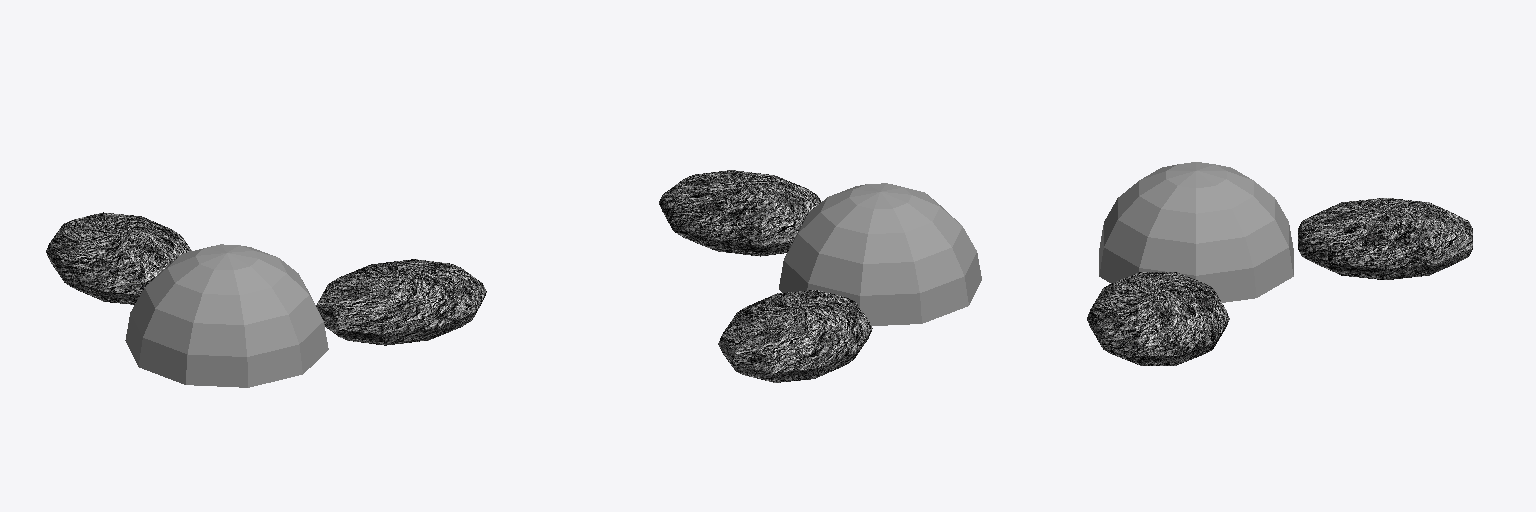
3 renders of one model, left to right at view 1: azimuth 30°, elevation 25°; view 2: azimuth 150°, elevation 25°; view 3: azimuth 270°, elevation 25°, orthographic.
Visible parts, largest first — view 1: Cesped2, Roca7, Roca6; view 2: Cesped2, Roca6, Roca7; view 3: Cesped2, Roca6, Roca7.
Boxes of the visible parts, box(x1,y1,x2,y2) form: Cesped2: box(125, 244, 328, 387); Roca7: box(316, 259, 486, 345); Roca6: box(46, 212, 191, 304); Cesped2: box(779, 183, 981, 325); Roca6: box(718, 290, 872, 382); Roca7: box(659, 170, 820, 256); Cesped2: box(1099, 162, 1293, 302); Roca6: box(1298, 198, 1472, 279); Roca7: box(1087, 272, 1229, 365).
Bounding box in the file's own units: 23.34 × 7.13 × 24.53.
Materials: 2 (1 with a texture image).